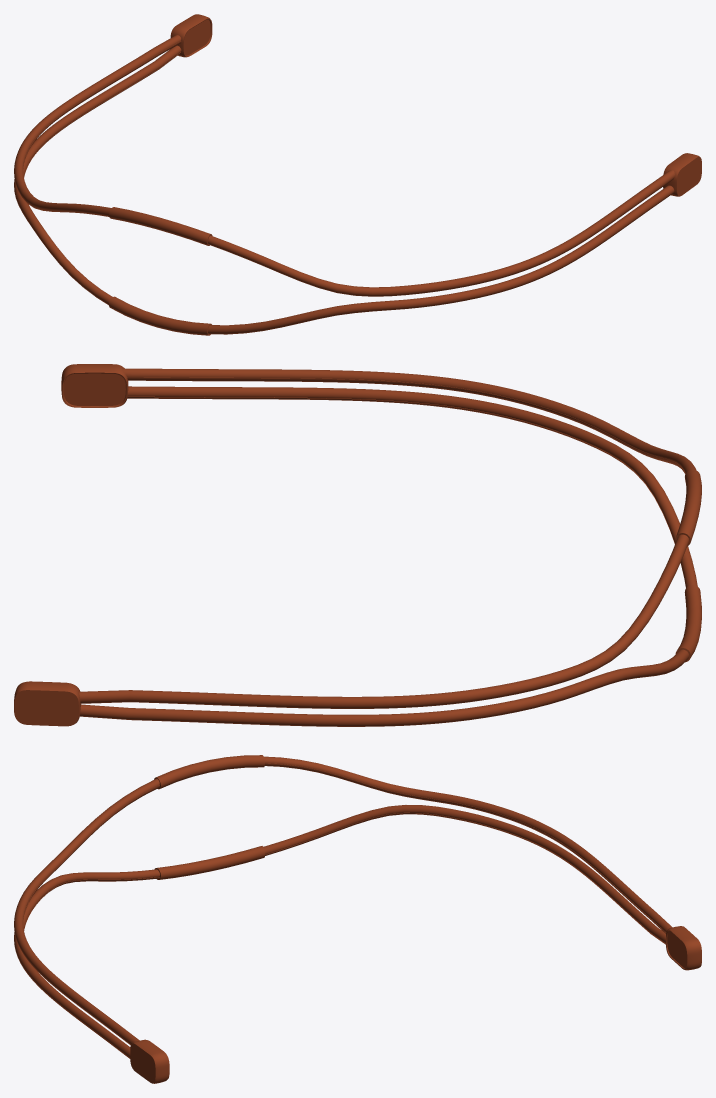
Rendered from Cables.fbx.
The picture shows the model from 3 angles, top to bottom: view 1: azimuth 30°, elevation 25°; view 2: azimuth 150°, elevation 25°; view 3: azimuth 270°, elevation 25°; orthographic projection. The views are drawn at different scales.
Visible parts, largest first — view 1: Box072; view 2: Box072; view 3: Box072.
Boxes of the visible parts, <box> form: Box072: <box>14,14,701,335</box>; Box072: <box>14,364,701,726</box>; Box072: <box>14,755,701,1083</box>.
Bounding box in the file's own units: 330 × 62.03 × 350.
